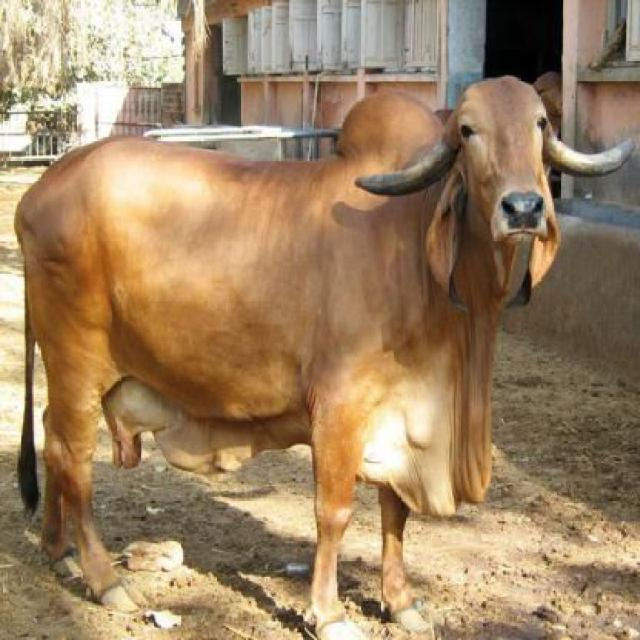Cow: (15, 77, 637, 638)
